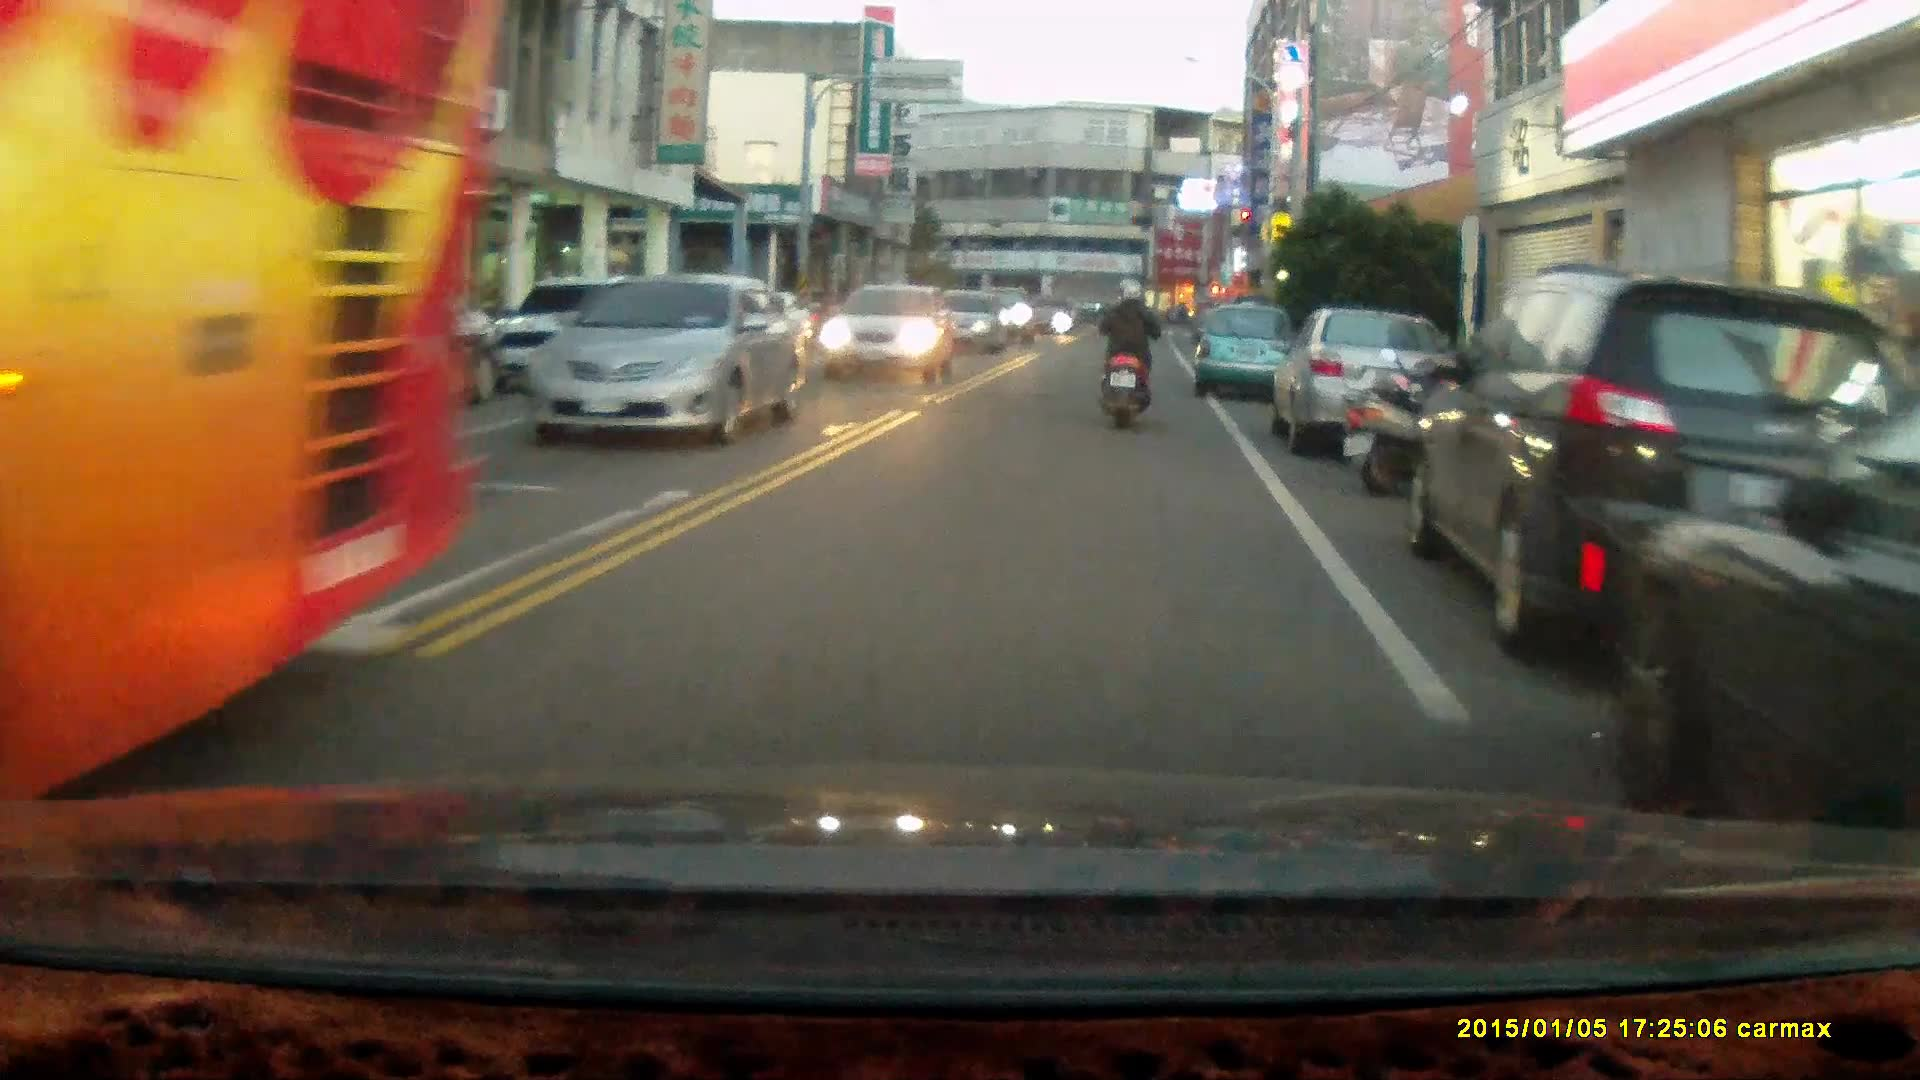rider: (1091, 274, 1157, 429)
vehicle: (1, 9, 497, 811), (1408, 261, 1920, 656), (1616, 389, 1920, 877), (522, 269, 807, 452), (1269, 309, 1454, 462), (822, 284, 957, 382), (1194, 298, 1301, 400), (926, 286, 1011, 358)
